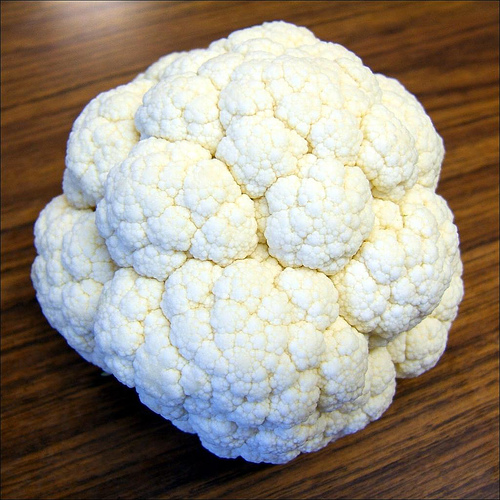cauliflower: (28, 18, 461, 461)
